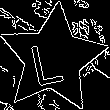L_N: (33, 31, 73, 87)
